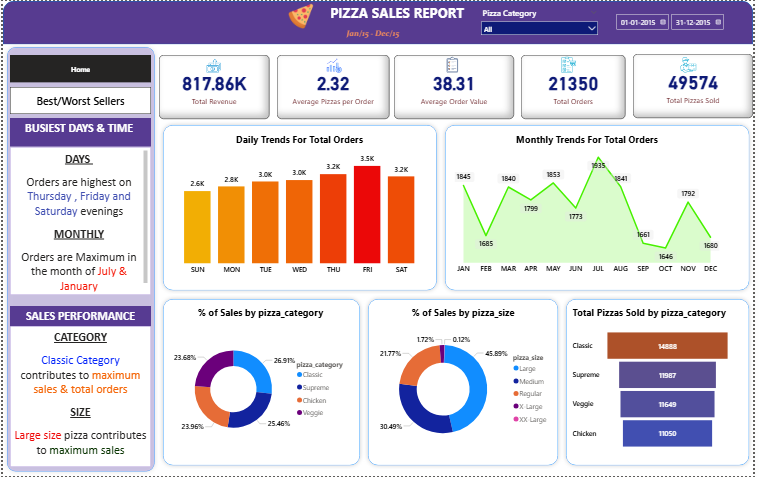

This screenshot's page, from the dashboard's own definition file:
{"tool":"powerbi","page":{"name":"Home","canvas":[1500,950],"ordinal":0},"visuals":[{"type":"card","fields":{"Values":["pizza_sales.Total_Revenue"]},"box":[311.4,108.4,220.7,128.1],"z":0},{"type":"shape","box":[0,84.8,311.4,865.2],"z":1000},{"type":"card","fields":{"Values":["pizza_sales.Average Order Value"]},"box":[782.5,108.4,240.5,128.1],"z":2000},{"type":"card","fields":{"Values":["pizza_sales.Average Pizzas per Order"]},"box":[547.9,108.4,224.7,128.1],"z":3000},{"type":"card","fields":{"Values":["pizza_sales.Total Pizzas Sold"]},"box":[1259.4,106.4,240.5,128.1],"z":4000},{"type":"card","fields":{"Values":["pizza_sales.Total Orders"]},"box":[1036.7,108.4,208.9,128.1],"z":5000},{"type":"image","box":[386.3,108.4,71,43.4],"z":6000},{"type":"image","box":[817.9,106.4,161.6,43.4],"z":7000},{"type":"image","box":[1259.4,106.4,220.7,43.4],"z":8000},{"type":"image","box":[1036.7,106.4,191.2,43.4],"z":9000},{"type":"image","box":[551.9,108.4,220.7,43.4],"z":10000},{"type":"shape","box":[0,0,1499.9,86.7],"z":11000},{"type":"textbox","box":[641.7,0,397.6,61],"z":12000},{"type":"textbox","box":[681.1,31.5,151.6,55.1],"z":13000},{"type":"image","box":[547.2,0,94.5,61],"z":14000},{"type":"shape","box":[311.4,240.5,563.7,346.9],"z":15000},{"type":"columnChart","title":"Daily Trends For Total Orders","fields":{"Category":["pizza_sales.Order Day"],"Y":["pizza_sales.Total Orders"]},"box":[329.1,264.1,526.2,291.7],"z":16000},{"type":"shape","box":[875.1,240.5,624.8,346.9],"z":17000},{"type":"areaChart","title":"Monthly Trends For Total Orders","fields":{"Y":["pizza_sales.Total Orders"],"Category":["pizza_sales.Order Month"]},"box":[898.8,264.1,540,291.7],"z":18000},{"type":"shape","box":[311.4,587.3,410,348.9],"z":19000},{"type":"shape","box":[721.4,587.3,396.2,348.9],"z":20000},{"type":"shape","box":[1117.5,587.3,382.4,348.9],"z":21000},{"type":"donutChart","title":"% of Sales by pizza_category","fields":{"Category":["pizza_sales.pizza_category"],"Y":["pizza_sales.Total Revenue"]},"box":[329.1,609,370.5,307.5],"z":22000},{"type":"donutChart","title":"% of Sales by pizza_size","fields":{"Category":["pizza_sales.pizza_size"],"Y":["pizza_sales.Total Revenue"]},"box":[735.2,609,368.6,307.5],"z":23000},{"type":"funnel","fields":{"Category":["pizza_sales.pizza_category"],"Y":["pizza_sales.Total Pizzas Sold"]},"box":[1133.3,609,325.2,307.5],"z":24000},{"type":"textbox","box":[13.8,234.5,281.8,57.2],"z":25000},{"type":"textbox","box":[13.8,291.7,281.8,295.6],"z":26000},{"type":"textbox","box":[13.8,609,281.8,41.4],"z":27000},{"type":"textbox","box":[13.8,650.4,281.8,281.8],"z":28000},{"type":"slicer","fields":{"Values":["pizza_sales.pizza_category"]},"box":[946.1,7.9,254.3,71],"z":29000},{"type":"slicer","fields":{"Values":["pizza_sales.order_date"]},"box":[1214.1,15.8,266.1,71],"z":30000},{"type":"pageNavigator","box":[14,108,282,55],"z":30001},{"type":"pageNavigator","box":[14,172,282,54],"z":30002}]}

Visuals, with their boxes in screenshot pixels (x1, y1, x2, y2), scaled from the page's 1500x950 canvas onto the 759x477 screenshot:
card - pizza_sales.Total_Revenue: box=[158, 54, 269, 119]
shape: box=[0, 43, 158, 476]
card - pizza_sales.Average Order Value: box=[396, 54, 518, 119]
card - pizza_sales.Average Pizzas per Order: box=[277, 54, 391, 119]
card - pizza_sales.Total Pizzas Sold: box=[637, 53, 758, 118]
card - pizza_sales.Total Orders: box=[525, 54, 630, 119]
image: box=[195, 54, 231, 76]
image: box=[414, 53, 496, 75]
image: box=[637, 53, 749, 75]
image: box=[525, 53, 621, 75]
image: box=[279, 54, 391, 76]
shape: box=[0, 0, 758, 44]
textbox: box=[325, 0, 526, 31]
textbox: box=[345, 16, 421, 43]
image: box=[277, 0, 325, 31]
shape: box=[158, 121, 443, 295]
"Daily Trends For Total Orders" columnChart: box=[167, 133, 433, 279]
shape: box=[443, 121, 758, 295]
"Monthly Trends For Total Orders" areaChart: box=[455, 133, 728, 279]
shape: box=[158, 295, 365, 470]
shape: box=[365, 295, 566, 470]
shape: box=[565, 295, 758, 470]
"% of Sales by pizza_category" donutChart: box=[167, 306, 354, 460]
"% of Sales by pizza_size" donutChart: box=[372, 306, 559, 460]
funnel - pizza_sales.pizza_category x pizza_sales.Total Pizzas Sold: box=[573, 306, 738, 460]
textbox: box=[7, 118, 150, 146]
textbox: box=[7, 146, 150, 295]
textbox: box=[7, 306, 150, 327]
textbox: box=[7, 327, 150, 468]
slicer - pizza_sales.pizza_category: box=[479, 4, 607, 40]
slicer - pizza_sales.order_date: box=[614, 8, 749, 44]
pageNavigator: box=[7, 54, 150, 82]
pageNavigator: box=[7, 86, 150, 113]
